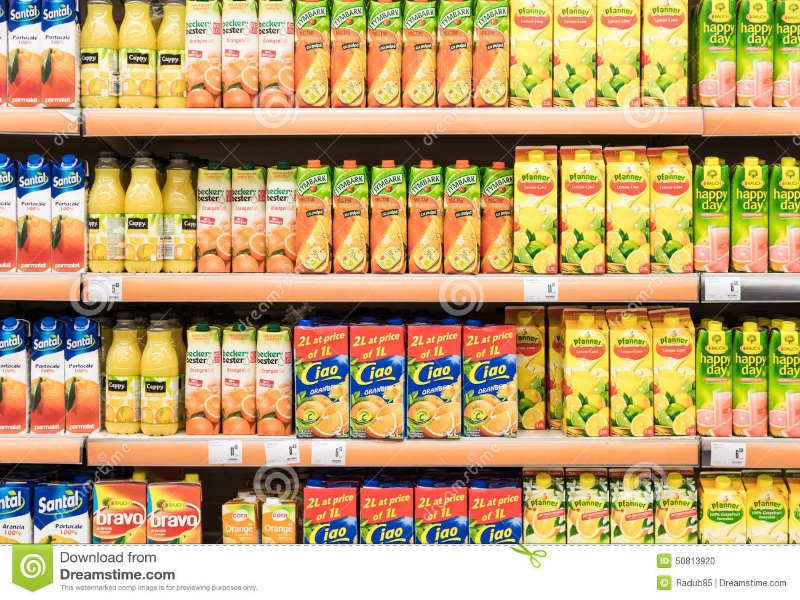juice: (405, 319, 462, 443), (349, 319, 406, 442), (291, 321, 348, 440), (463, 320, 517, 442), (556, 143, 603, 279), (512, 148, 561, 277), (561, 309, 609, 440), (607, 151, 654, 274), (649, 153, 695, 273), (219, 1, 269, 111), (693, 158, 738, 279), (612, 308, 652, 438), (732, 154, 774, 276), (658, 308, 698, 436), (597, 1, 642, 109), (330, 159, 369, 279), (443, 157, 483, 274), (644, 1, 688, 106), (554, 1, 597, 108), (62, 319, 101, 435), (480, 159, 518, 277), (404, 155, 441, 276), (182, 325, 220, 439), (696, 1, 737, 106), (738, 1, 777, 110), (697, 319, 732, 440), (513, 1, 554, 103), (51, 156, 87, 272), (15, 155, 51, 270), (372, 158, 407, 276), (256, 326, 294, 434), (260, 1, 297, 111), (298, 162, 333, 278), (234, 161, 269, 275), (733, 321, 767, 438), (473, 1, 510, 108), (766, 322, 800, 436), (224, 327, 259, 436), (265, 161, 298, 276), (28, 316, 60, 434), (197, 166, 232, 271), (332, 1, 366, 108), (185, 1, 219, 108), (42, 1, 76, 103), (369, 1, 401, 108), (439, 1, 470, 110), (299, 3, 330, 111), (404, 3, 435, 106), (12, 1, 41, 110)
